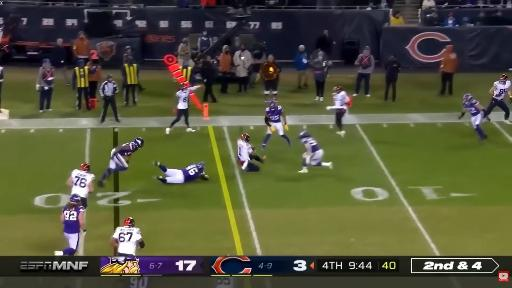Helmet: (70, 194, 80, 203), (124, 218, 134, 227), (241, 133, 250, 143), (463, 94, 472, 103), (134, 138, 143, 147), (81, 163, 90, 171), (197, 162, 205, 171), (333, 85, 343, 92), (299, 131, 309, 138), (499, 74, 507, 82), (269, 101, 277, 109), (180, 83, 188, 89)
Jersey: (113, 227, 141, 255), (71, 170, 94, 197), (63, 207, 85, 233), (176, 86, 199, 109), (181, 164, 204, 182), (238, 140, 252, 162), (301, 137, 320, 153), (333, 91, 349, 110), (494, 81, 510, 99), (464, 100, 481, 116), (266, 106, 283, 122), (118, 143, 138, 156), (129, 277, 149, 287), (216, 277, 234, 287)
Player: (98, 138, 143, 187), (166, 83, 202, 134), (55, 195, 85, 255), (299, 131, 332, 173), (262, 101, 290, 150), (110, 218, 145, 256), (484, 74, 511, 123), (459, 94, 487, 140), (67, 163, 94, 208), (327, 86, 350, 137), (154, 162, 209, 183), (238, 134, 266, 171), (216, 277, 234, 287)
